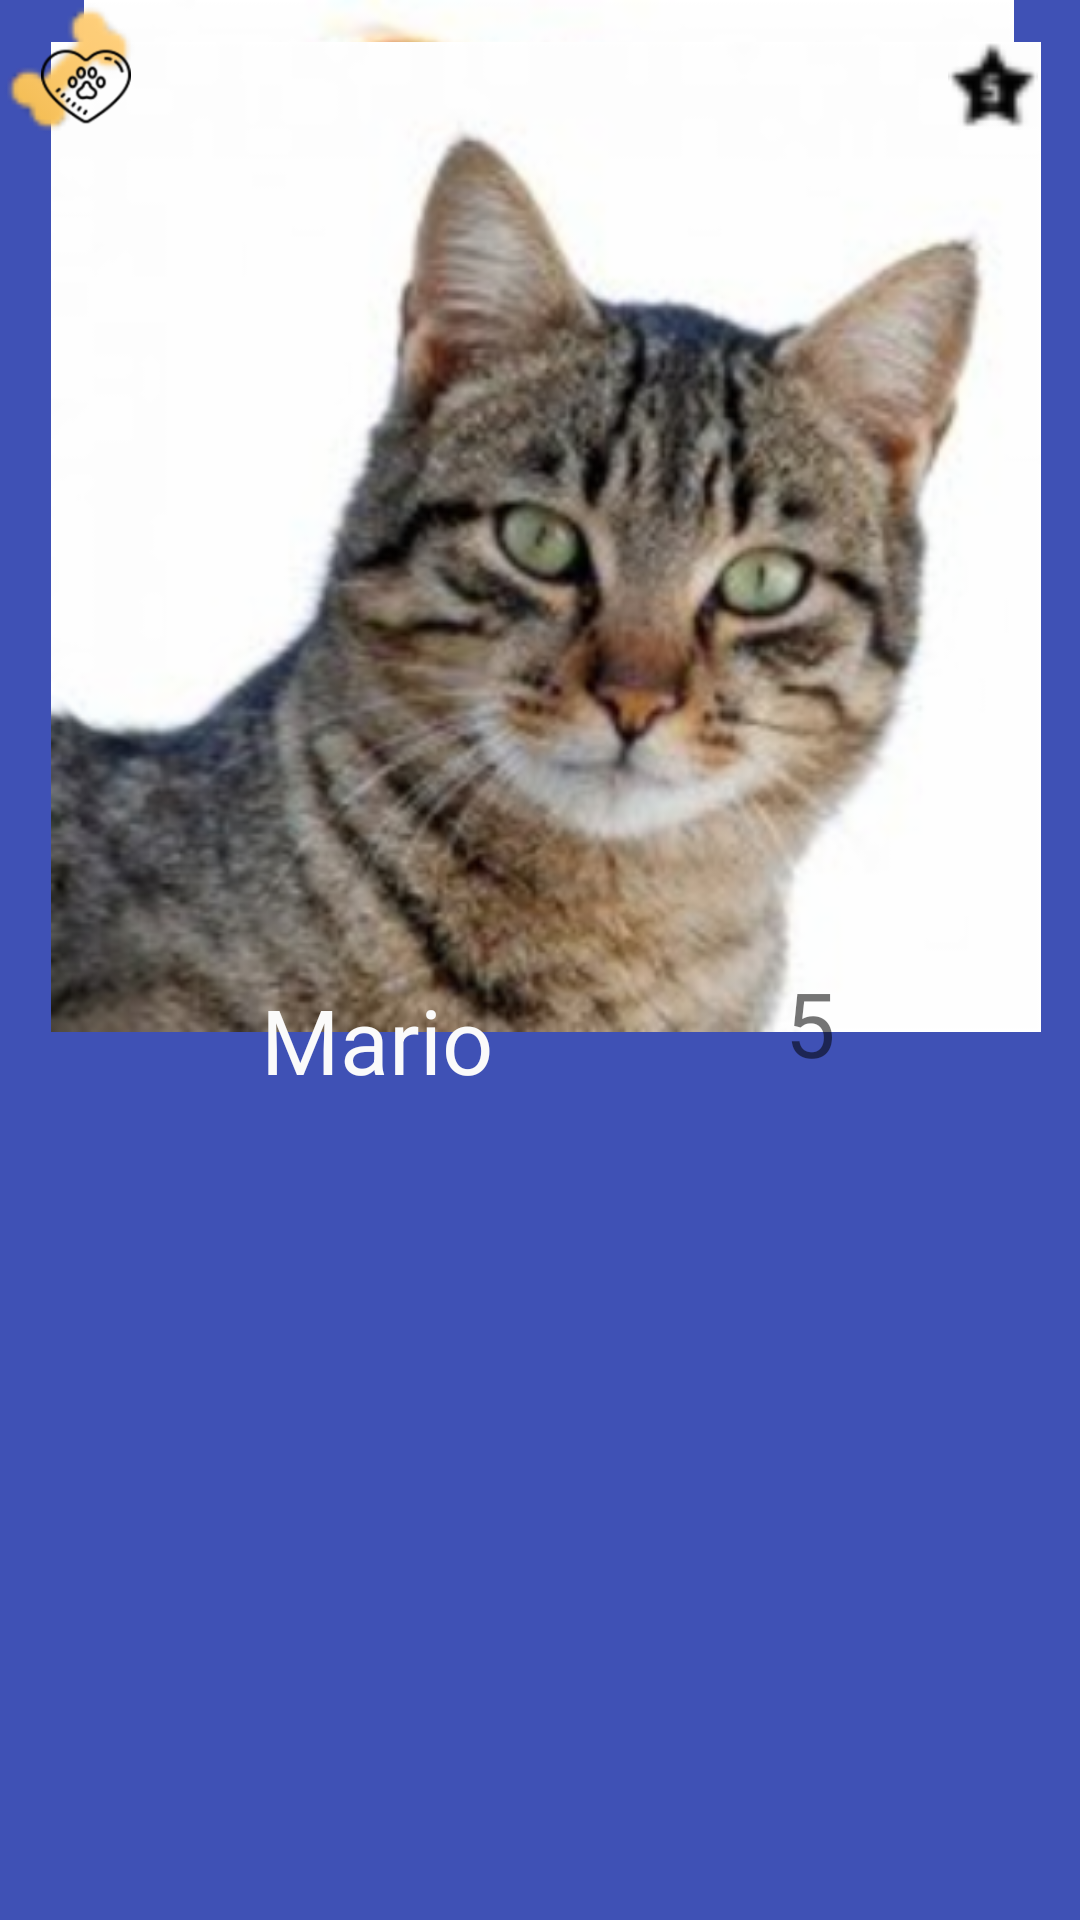

Point at icon controls on the screen. Image size 1080px x 1920px, points as (x,y).
star: (991,85)
